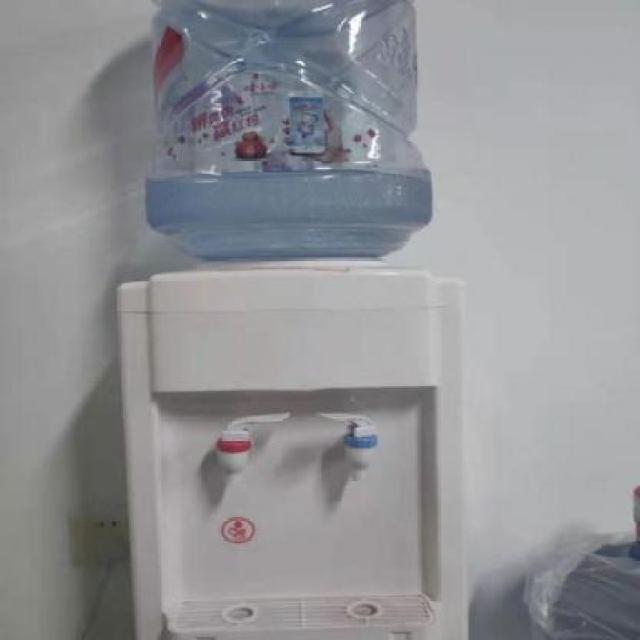coolerbottle: (140, 0, 440, 265)
